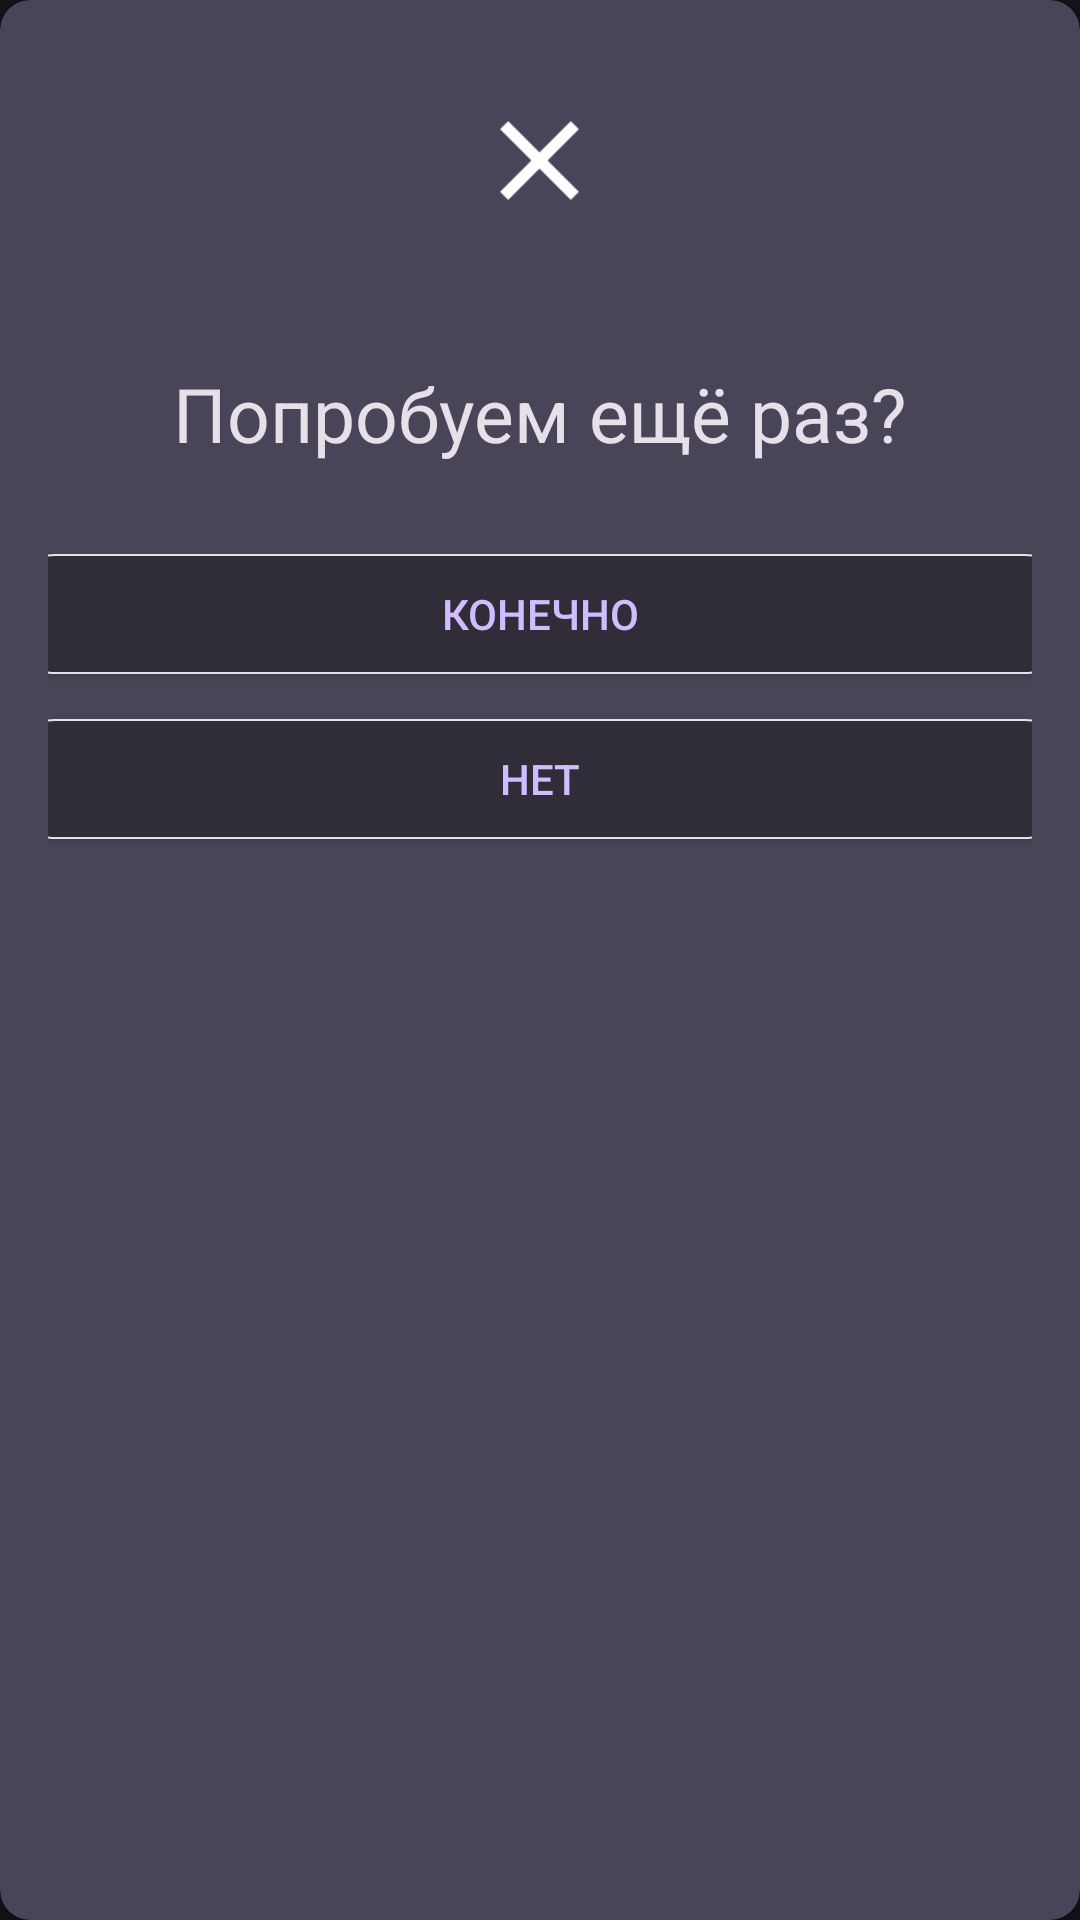

Where icons sit on this 1080×1920 app screen, as (x1, y1, x2, y2):
clear: (500, 121, 579, 200)
